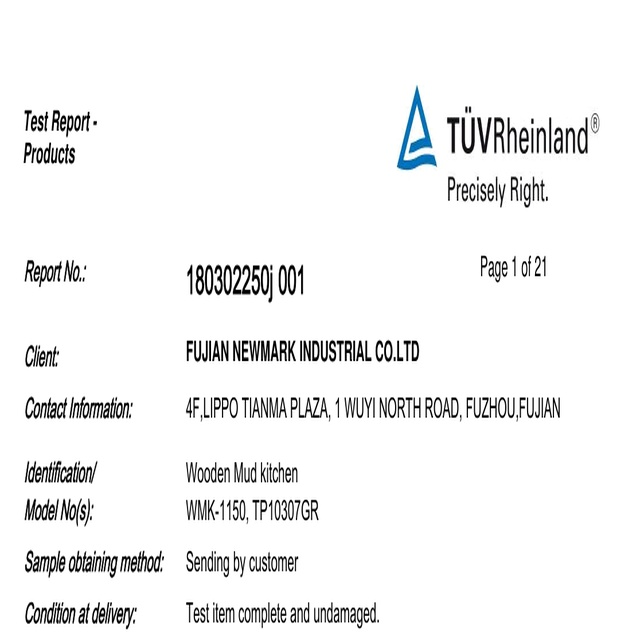tuv_rheinland: (391, 82, 601, 174)
